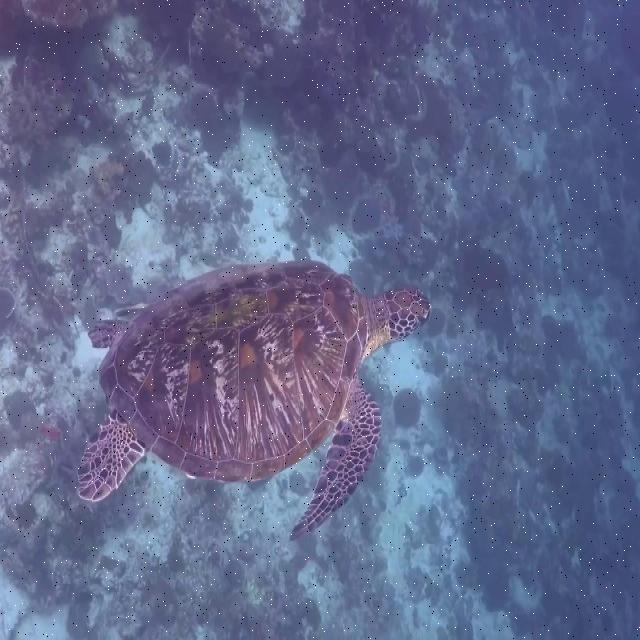fish: (75, 259, 431, 542)
